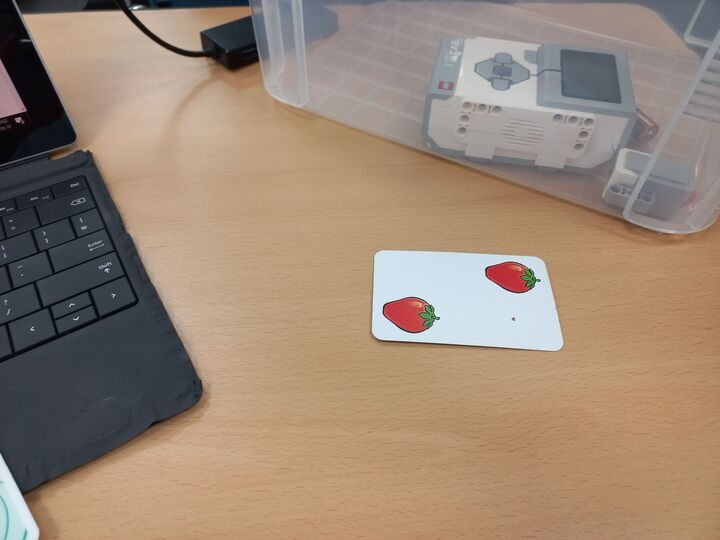strawberry2: (370, 244, 568, 355)
